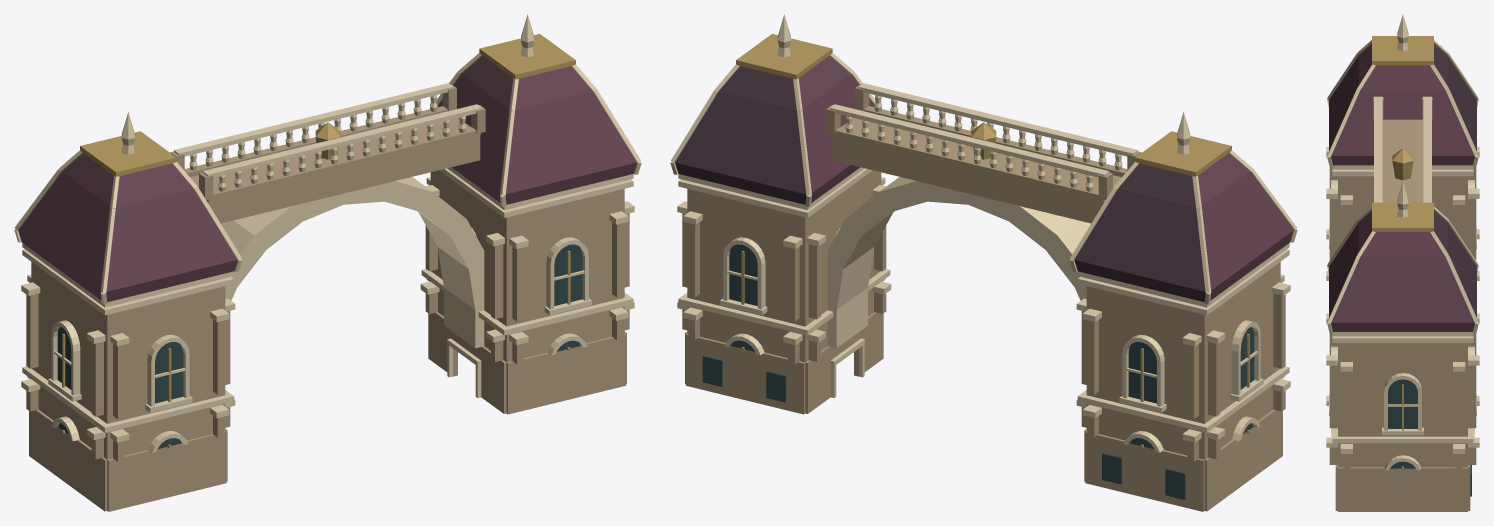
The model's file is Royal_Gatehouse_Cover.fbx.
3 renders of one model, left to right at view 1: azimuth 30°, elevation 25°; view 2: azimuth 150°, elevation 25°; view 3: azimuth 270°, elevation 25°, orthographic. The views are drawn at different scales.
Visible parts, largest first — view 1: OpenBuildings_Royal_Gatehouse_Cover; view 2: OpenBuildings_Royal_Gatehouse_Cover; view 3: OpenBuildings_Royal_Gatehouse_Cover.
Boxes of the visible parts, x1,y1,x2,y2 form: OpenBuildings_Royal_Gatehouse_Cover: (14,14,641,511); OpenBuildings_Royal_Gatehouse_Cover: (670,14,1297,511); OpenBuildings_Royal_Gatehouse_Cover: (1326,15,1479,511).
Size of the model in its own units: 23.83 by 15.05 by 6.83.
